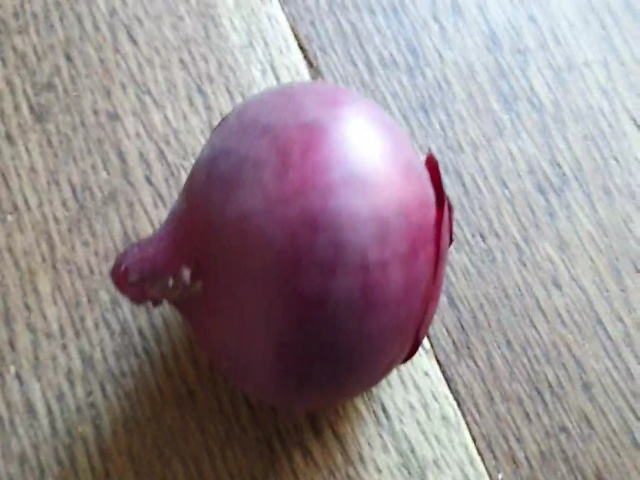red_onion: (105, 66, 461, 412)
